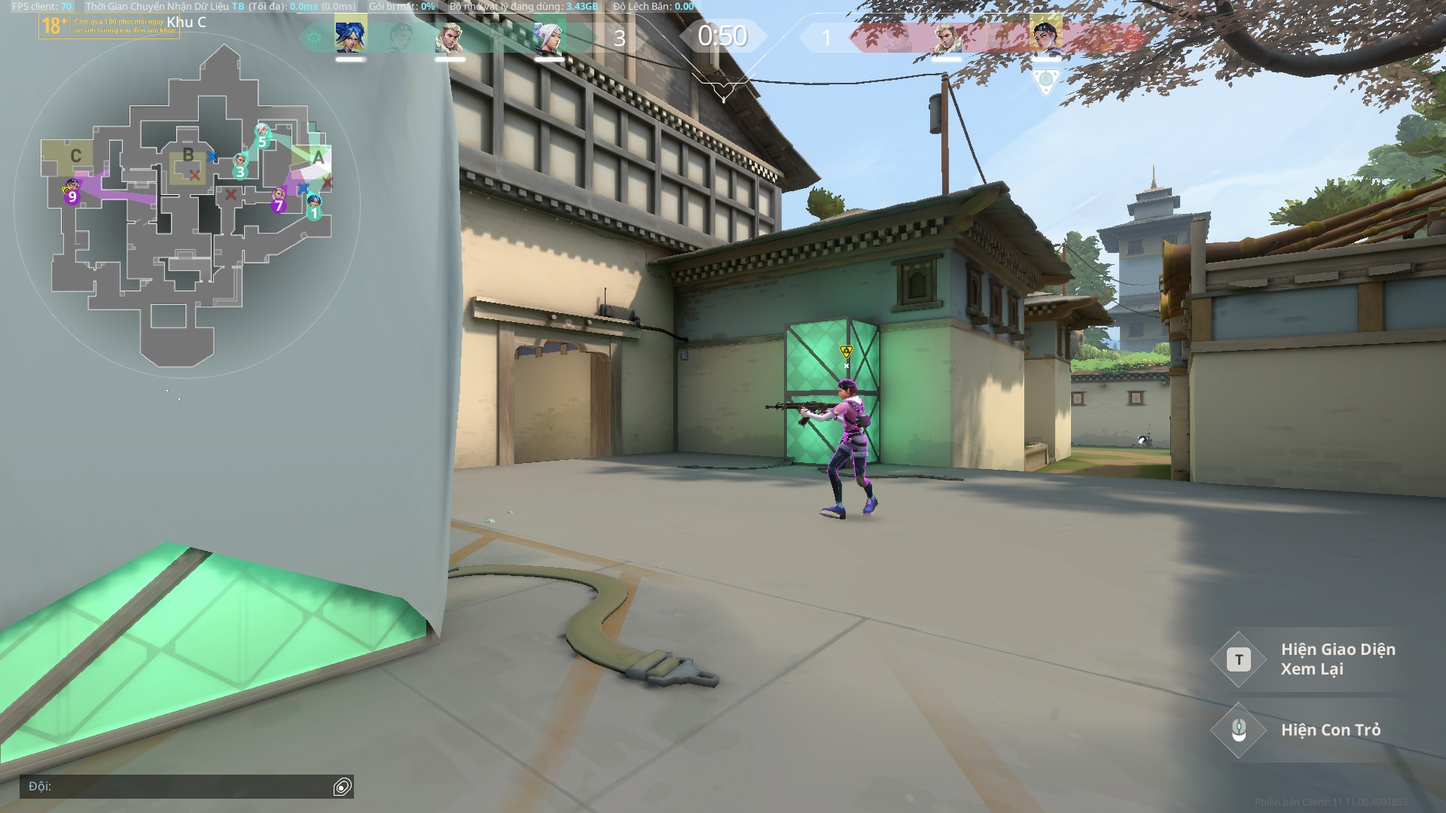body: (844, 397, 865, 430)
head: (837, 380, 857, 398)
